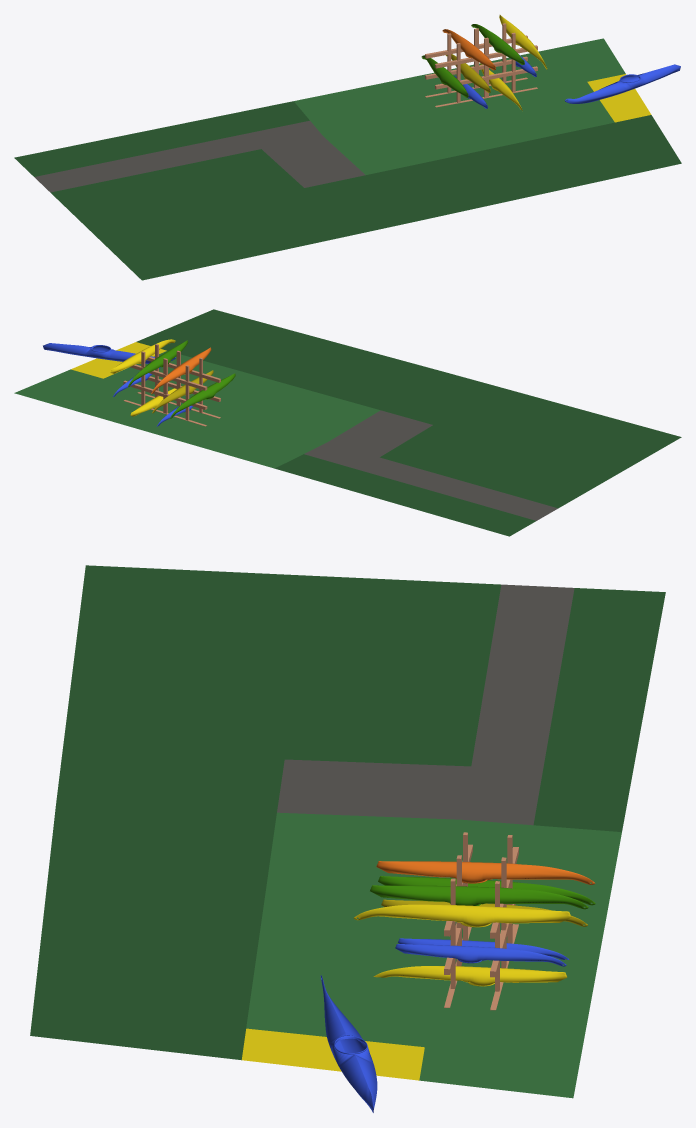
Rendered from ulmpark.glb.
The picture shows the model from 3 angles, top to bottom: view 1: azimuth 30°, elevation 25°; view 2: azimuth 150°, elevation 25°; view 3: azimuth 270°, elevation 25°; orthographic projection. The views are drawn at different scales.
Parts seen in each view (by area): view 1: Plane.022, Cylinder.082; view 2: Plane.022, Cylinder.082; view 3: Plane.022, Cylinder.082.
Boxes of the visible parts, x1,y1,x2,y2 form: Plane.022: (14, 38, 681, 280); Cylinder.082: (421, 15, 680, 110); Plane.022: (14, 309, 681, 536); Cylinder.082: (43, 339, 235, 426); Plane.022: (30, 565, 665, 1098); Cylinder.082: (320, 832, 595, 1112).
Size of the model in its own units: 0.1623 by 0.0159 by 0.0788.
